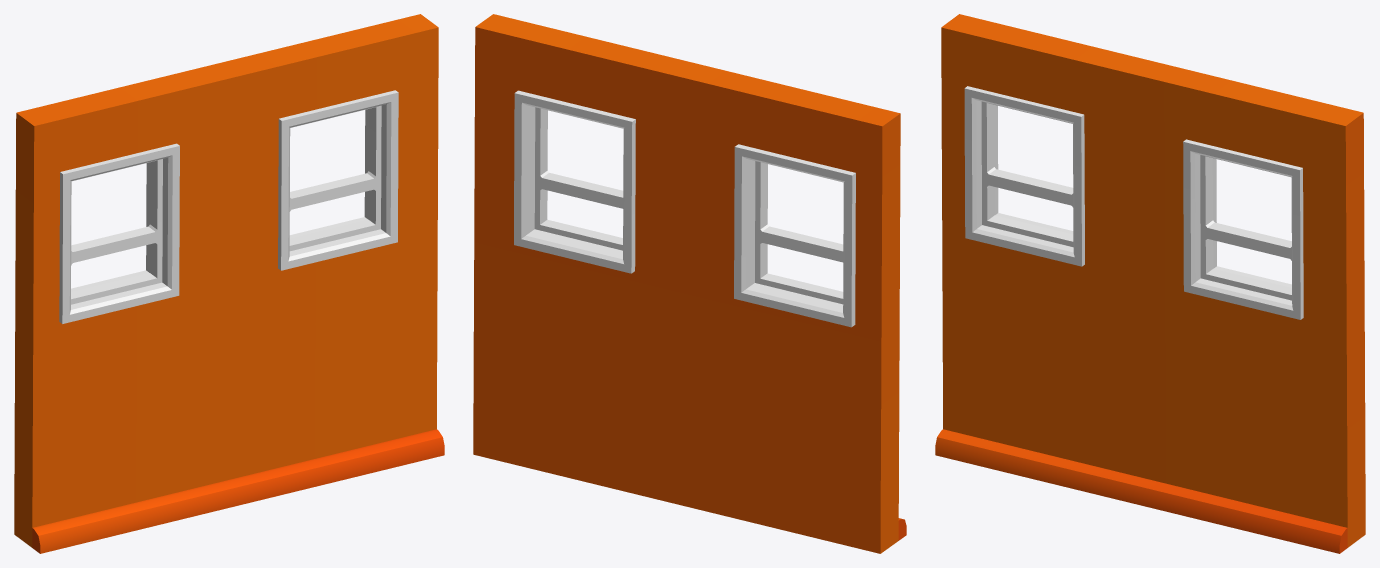
The model's file is O_Wall003.fbx.
3 views of the same model, side by side, from view 1: azimuth 30°, elevation 25°; view 2: azimuth 150°, elevation 25°; view 3: azimuth 330°, elevation 25° (orthographic).
Parts seen in each view (by area): view 1: Wall003.001; view 2: Wall003.001; view 3: Wall003.001.
Part boxes in pixels (x1,y1,x2,y2): Wall003.001: (14, 14, 444, 553); Wall003.001: (473, 14, 906, 553); Wall003.001: (935, 14, 1365, 553).
Size of the model in its own units: 250 by 250 by 30.71.
Materials: 1 (1 with a texture image).
